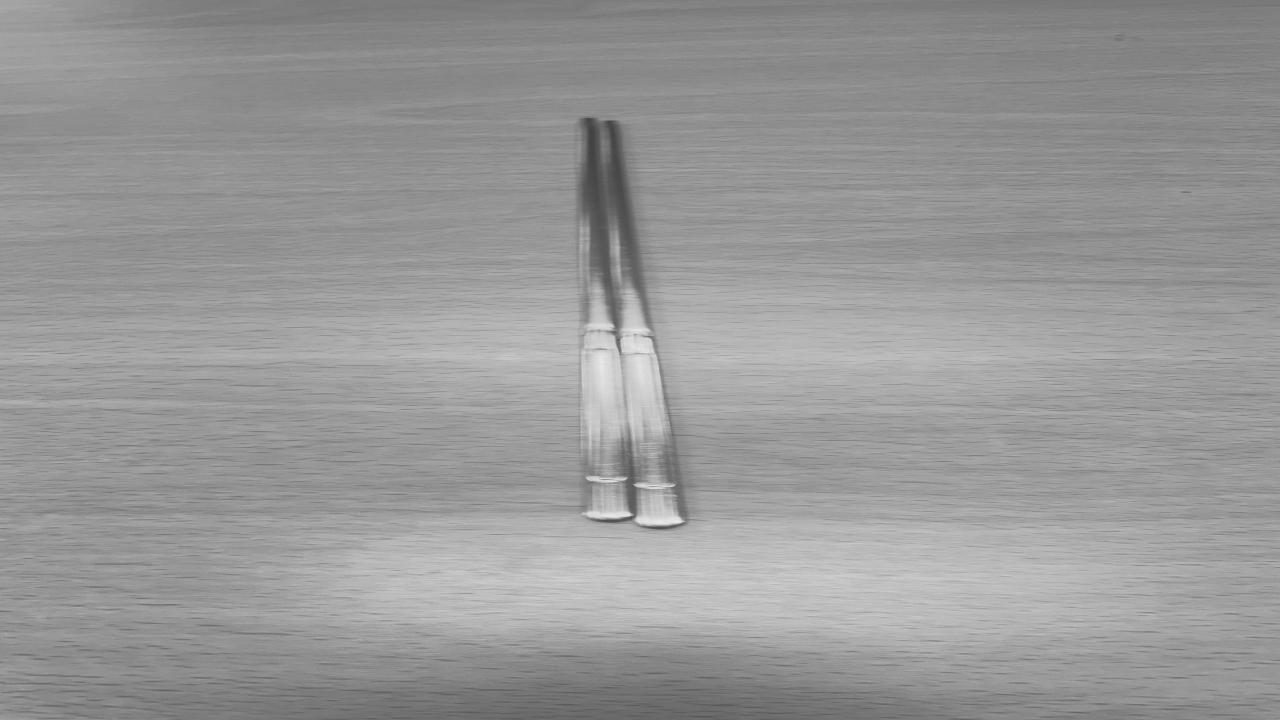chopstick: (580, 117, 679, 521)
